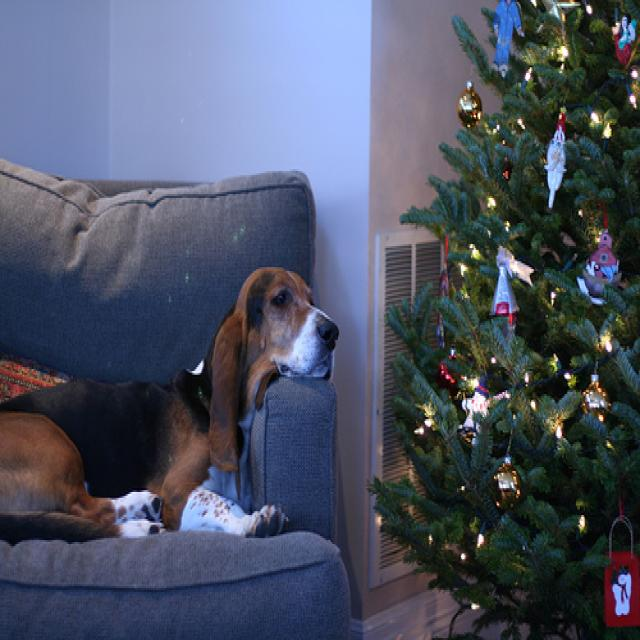dog-basset_hound: (1, 261, 340, 554)
